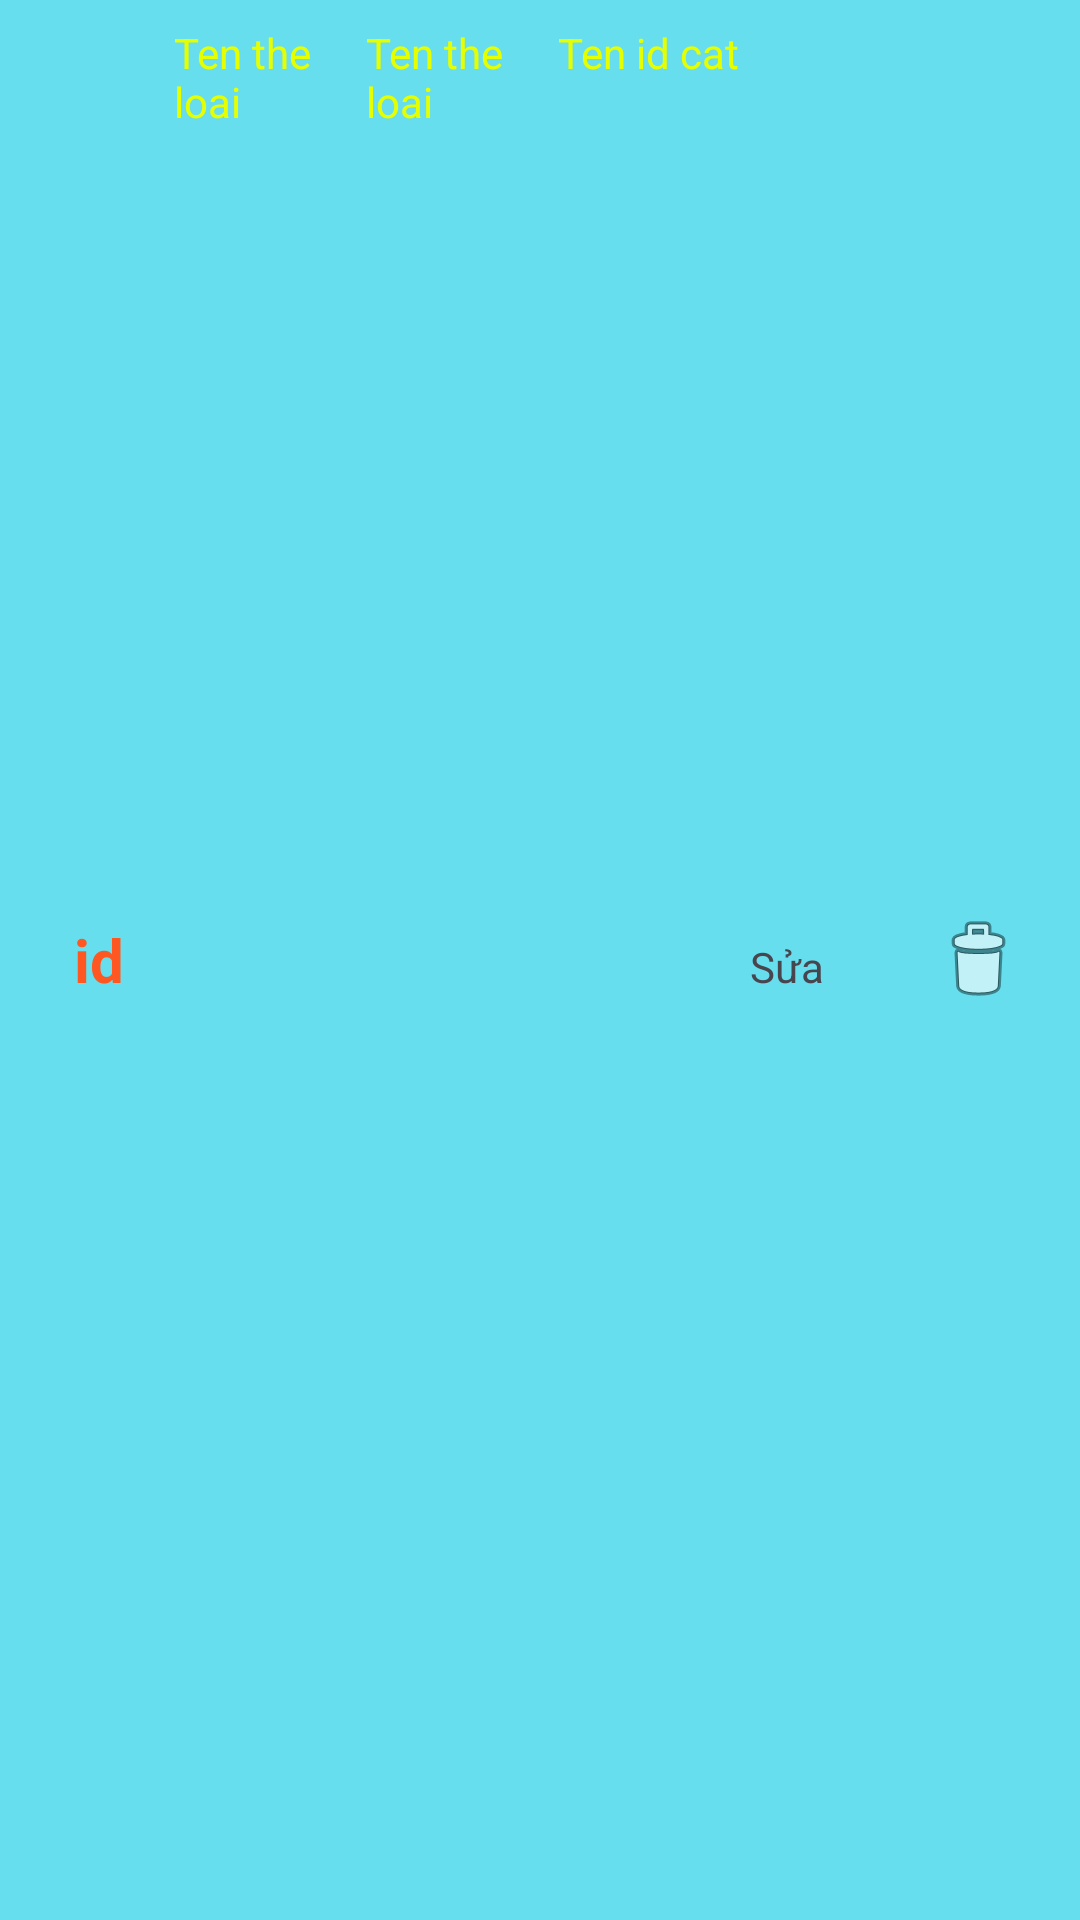

Named icons in this screenshot (1080×1920) and their centers, point (x, y):
Delete Product: point (978, 958)
